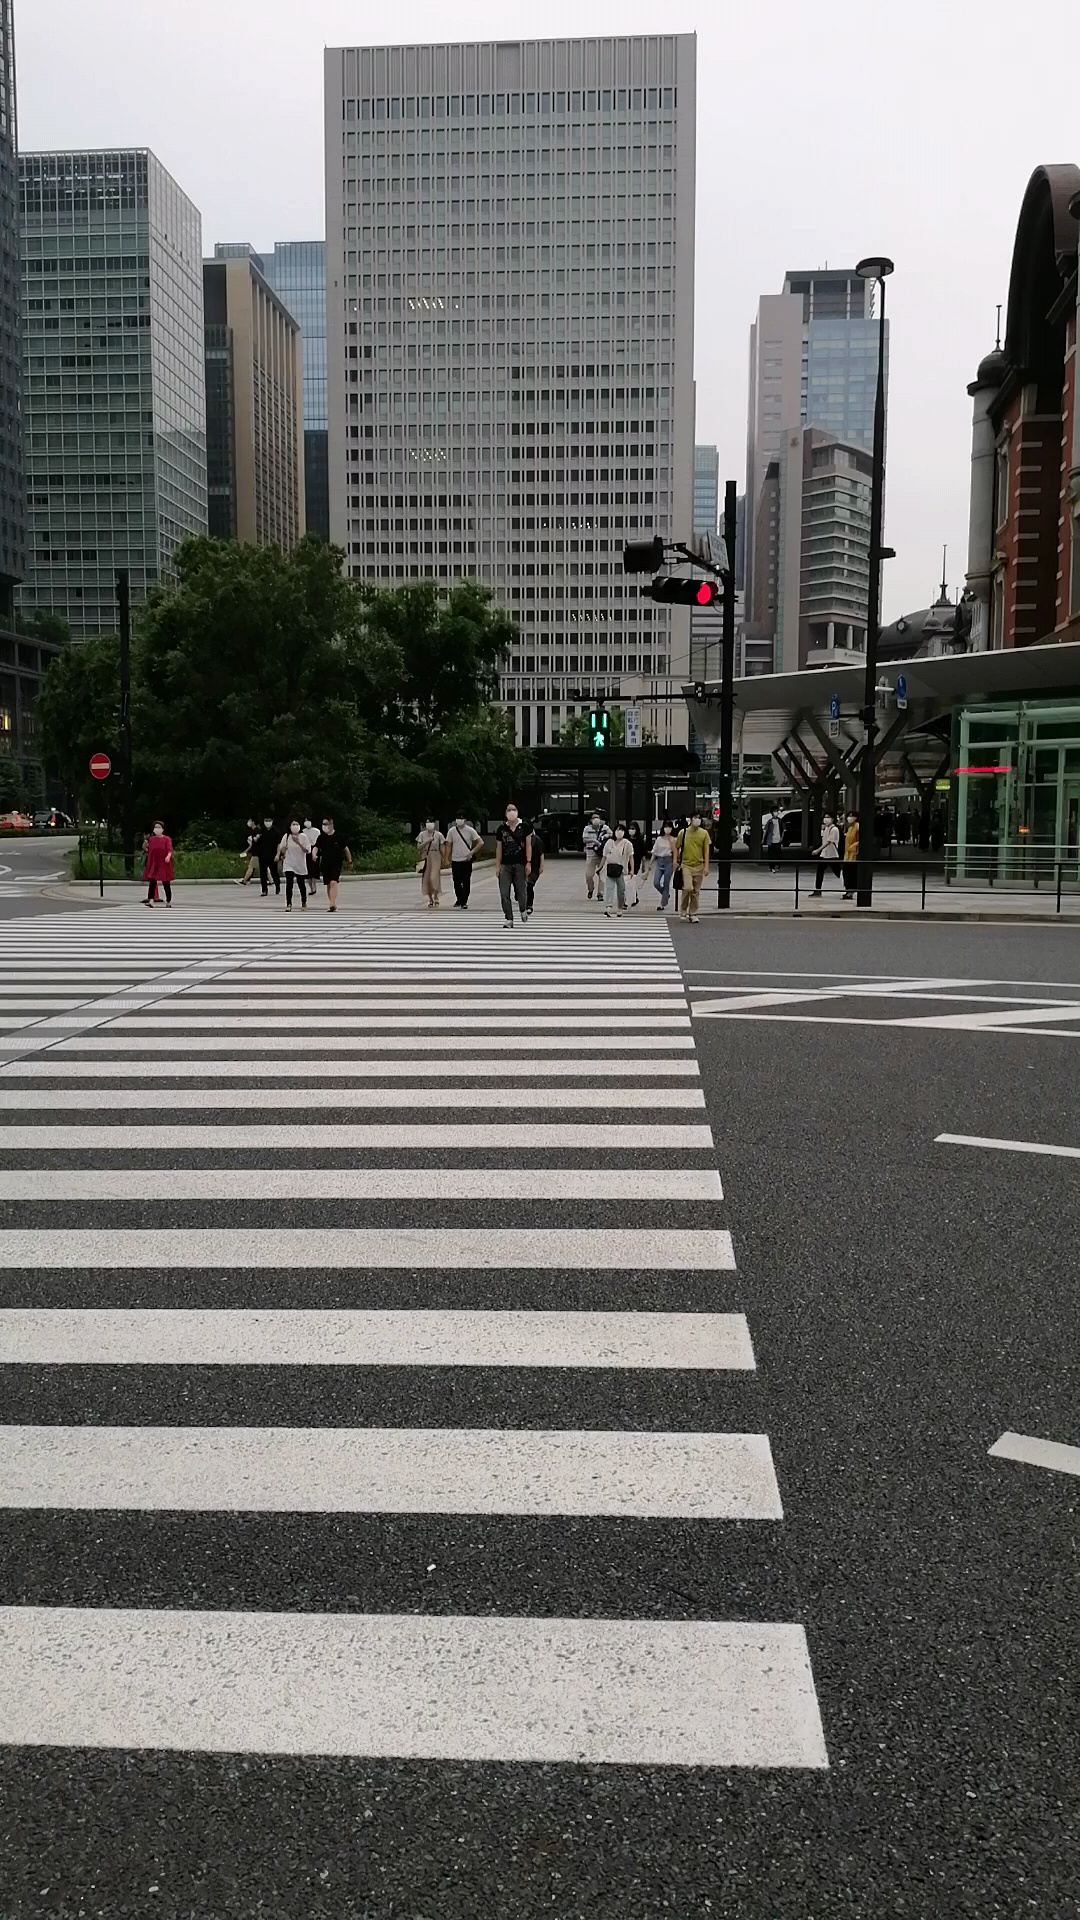green: (589, 708, 611, 750)
